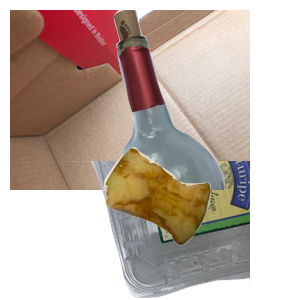cardboard: (10, 10, 250, 190)
glass: (89, 10, 300, 190)
plastic: (23, 161, 263, 300)
trash: (101, 145, 300, 300)
